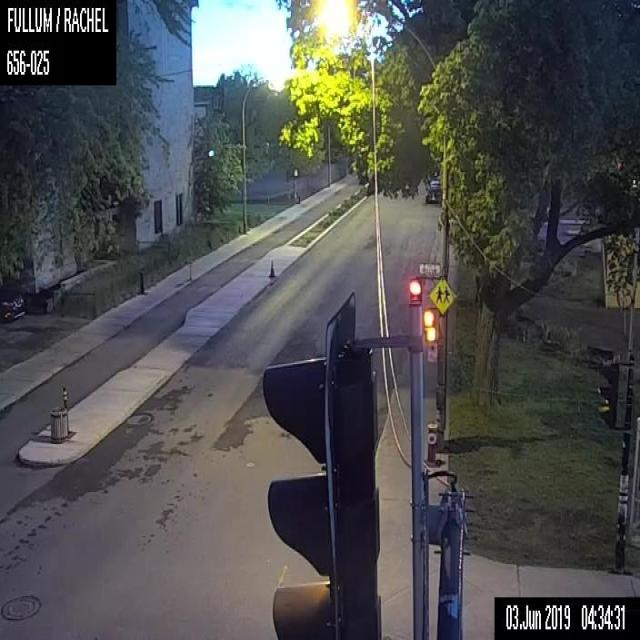vehicle: (0, 290, 25, 321), (424, 180, 441, 203)
